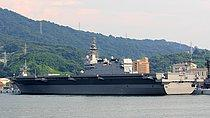MIL_Ship: (5, 39, 198, 95)
